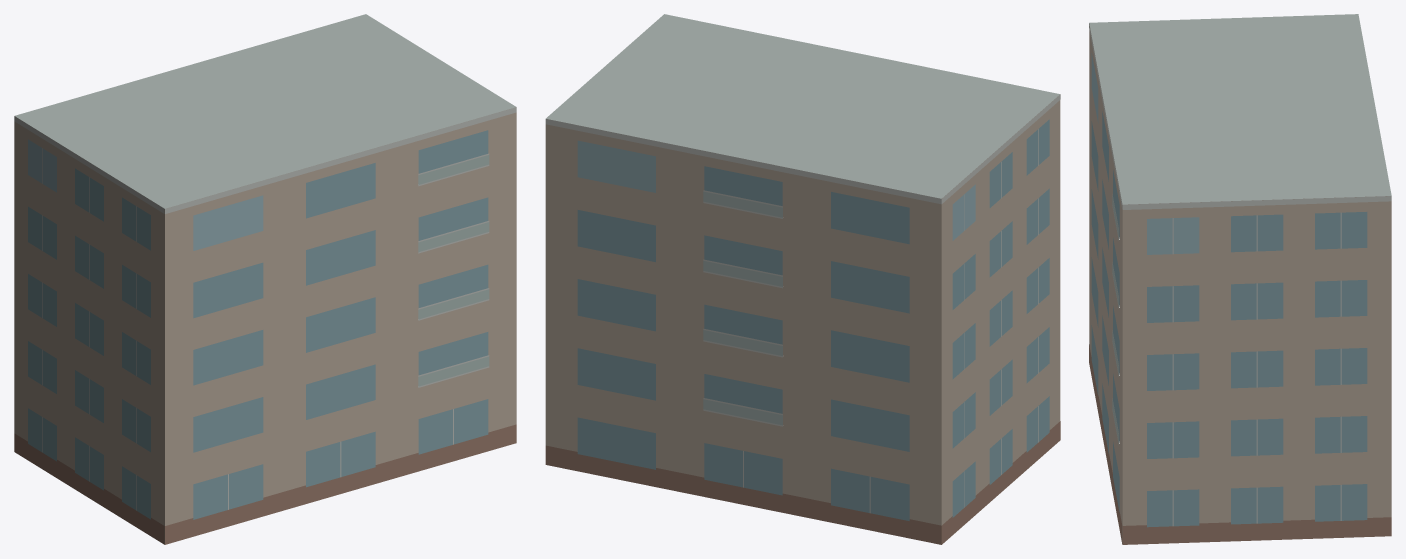
File: survey-upis-32759017.glb
3 renders of one model, left to right at view 1: azimuth 30°, elevation 25°; view 2: azimuth 150°, elevation 25°; view 3: azimuth 270°, elevation 25°, orthographic. The views are drawn at different scales.
Parts seen in each view (by area): view 1: survey-upis-32759017.tmp; view 2: survey-upis-32759017.tmp; view 3: survey-upis-32759017.tmp.
Boxes of the visible parts, x1,y1,x2,y2 form: survey-upis-32759017.tmp: (14,14,516,544); survey-upis-32759017.tmp: (545,14,1060,544); survey-upis-32759017.tmp: (1089,14,1391,544).
Size of the model in its own units: 18.27 by 15.2 by 12.26.
